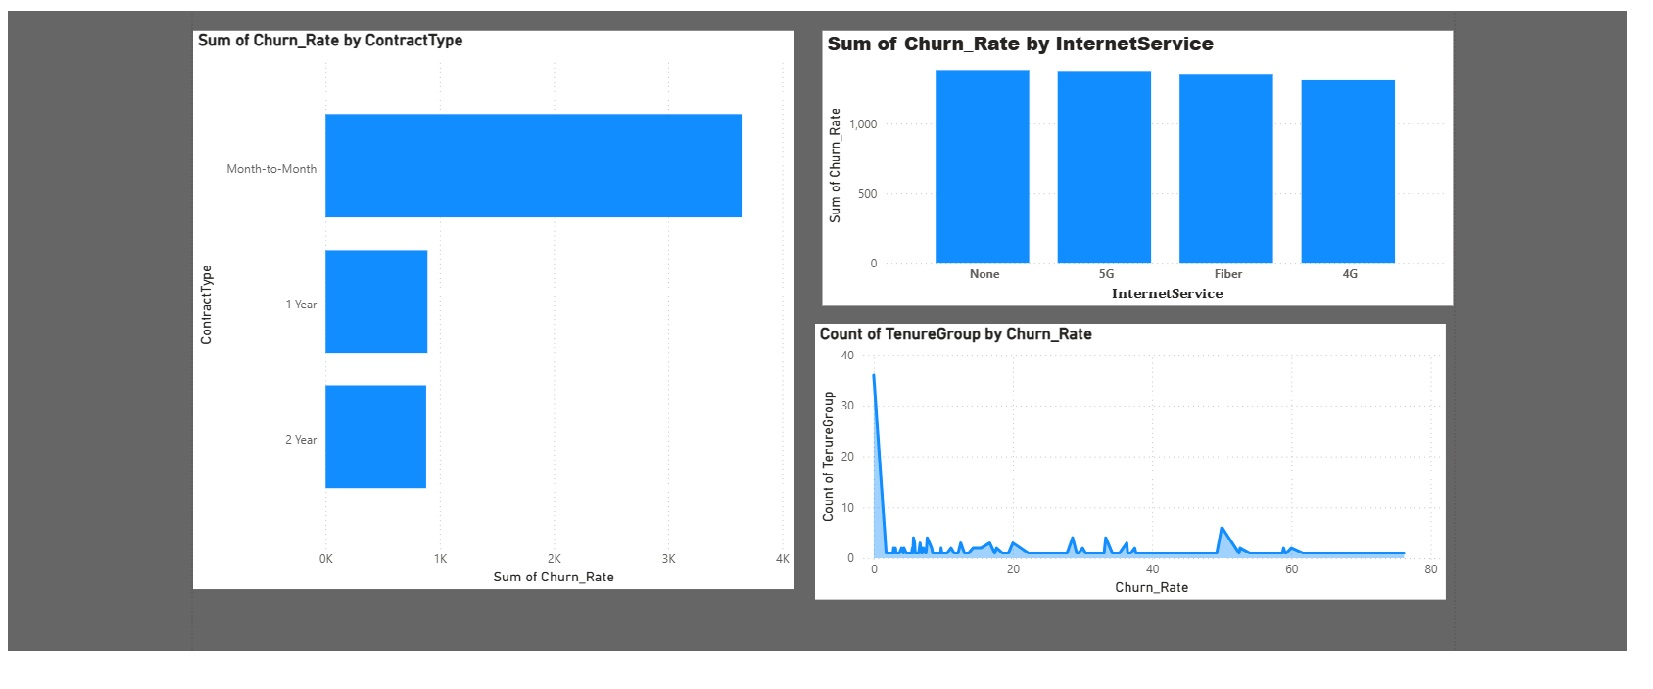

The page's visual inventory and layout, read from the dashboard file:
{"tool":"powerbi","page":{"name":"Page 1","canvas":[1280,720],"ordinal":0},"visuals":[{"type":"barChart","fields":{"Category":["churn_dashboard_predictionanalysis.ContractType"],"Y":["Sum(churn_dashboard_predictionanalysis.Churn_Rate)"]},"box":[0,33.6,610.8,598.3],"z":0},{"type":"clusteredColumnChart","fields":{"Category":["churn_dashboard_predictionanalysis.InternetService"],"Y":["Sum(churn_dashboard_predictionanalysis.Churn_Rate)"]},"box":[639.4,33.6,640.6,294.8],"z":1000},{"type":"areaChart","fields":{"Category":["churn_dashboard_predictionanalysis.Churn_Rate"],"Y":["CountNonNull(churn_dashboard_predictionanalysis.TenureGroup)"]},"box":[631.9,348.3,640.6,294.8],"z":2000}]}

Visuals, with their boxes on the page's 1280x720 design canvas (x1, y1, x2, y2). These are canvas units, not pixel positions in the 1653x689 screenshot, which may show the page scaled, cropped or inside an application window:
barChart - churn_dashboard_predictionanalysis.ContractType x Sum(churn_dashboard_predictionanalysis.Churn_Rate): box=[0, 34, 611, 632]
clusteredColumnChart - churn_dashboard_predictionanalysis.InternetService x Sum(churn_dashboard_predictionanalysis.Churn_Rate): box=[639, 34, 1280, 328]
areaChart - churn_dashboard_predictionanalysis.Churn_Rate x CountNonNull(churn_dashboard_predictionanalysis.TenureGroup): box=[632, 348, 1272, 643]
